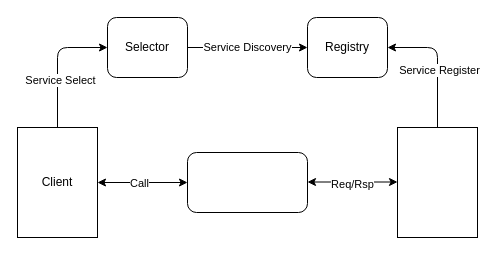
The diagram is 497 pixels wide and 255 high, and some of its shapes have lost their labels. The centre of each missing label's shape, as x and y in pixels:
"Server" belongs at point 437,182.
"Transport(gRPC)" belongs at point 247,182.
